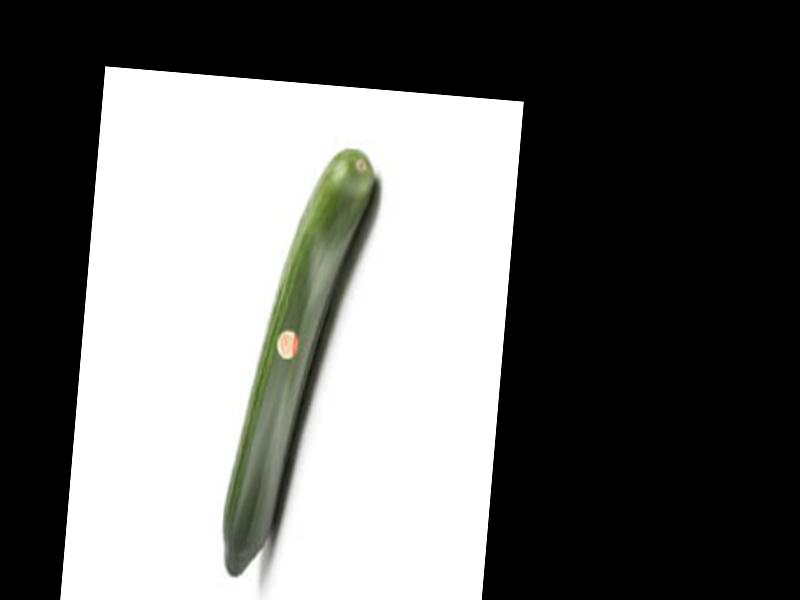Cucumber: (218, 138, 377, 585)
